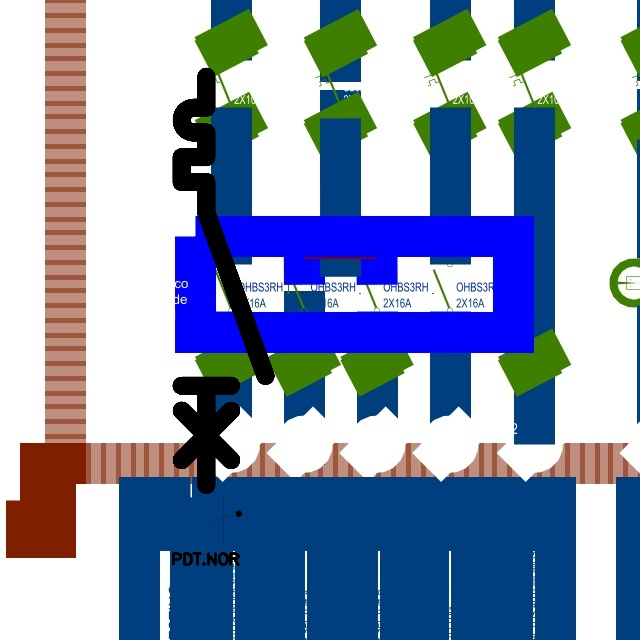interruptor_termomagnetico: (171, 66, 276, 495)
